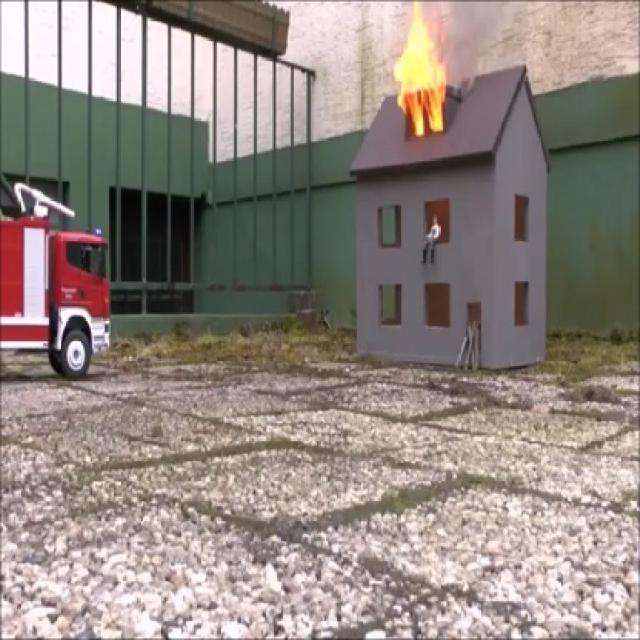Fire: (391, 3, 450, 144)
